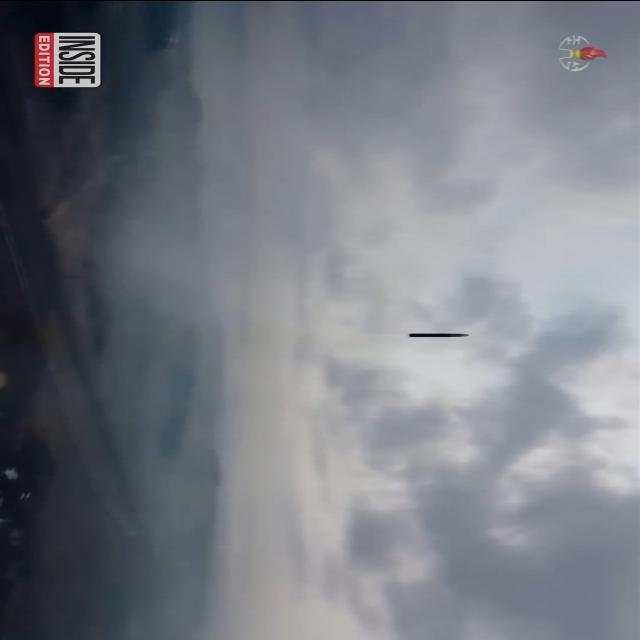missile: (407, 329, 476, 339)
